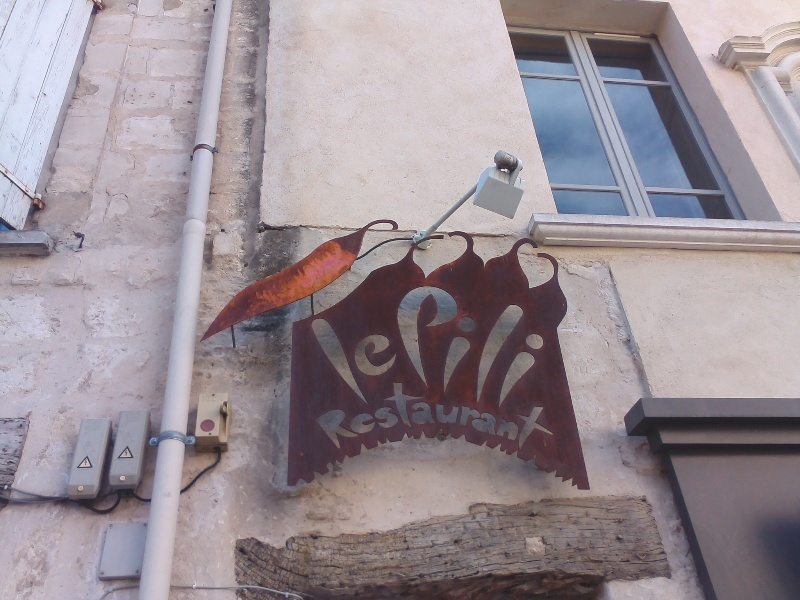text: (401, 280, 416, 414), (417, 280, 432, 414), (433, 280, 448, 414), (449, 280, 464, 414), (465, 280, 480, 414), (481, 280, 496, 414), (497, 280, 512, 414), (513, 280, 528, 414), (529, 280, 544, 414), (545, 280, 557, 414), (321, 307, 336, 413), (337, 307, 352, 413), (353, 307, 368, 413), (369, 307, 384, 413), (385, 307, 400, 413), (306, 307, 320, 413), (390, 280, 400, 414), (321, 377, 336, 457), (337, 377, 352, 457), (353, 377, 368, 457), (369, 377, 384, 457), (385, 377, 400, 457), (401, 377, 416, 457), (417, 377, 432, 457), (433, 377, 448, 457), (449, 377, 464, 457), (465, 377, 480, 457), (481, 377, 496, 457), (497, 377, 512, 457), (513, 377, 528, 457), (529, 377, 544, 457), (545, 377, 560, 457), (561, 377, 576, 457), (401, 307, 412, 413), (311, 377, 320, 457), (577, 377, 578, 457)
